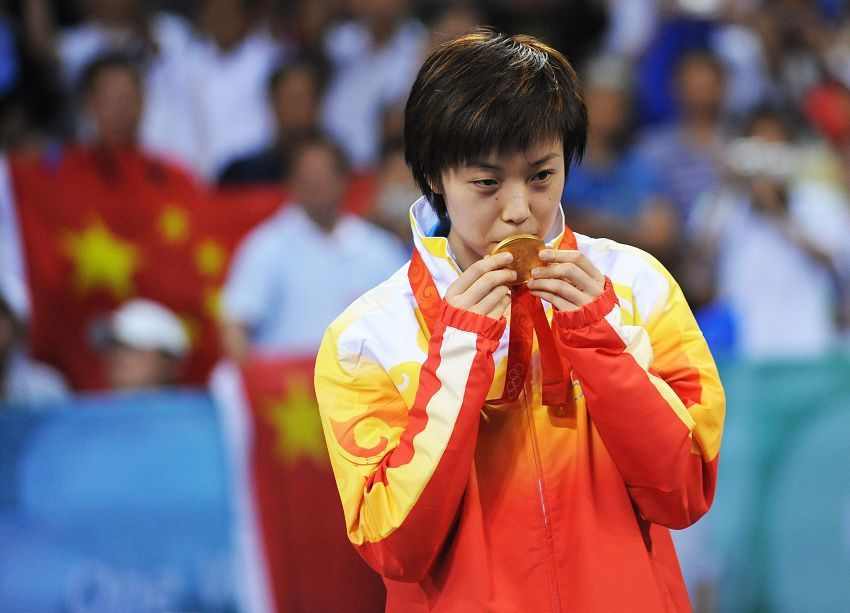face: (447, 111, 567, 259)
